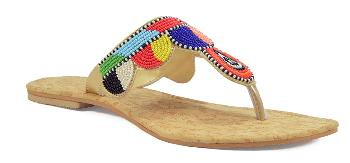Footwear: (23, 14, 338, 153)
